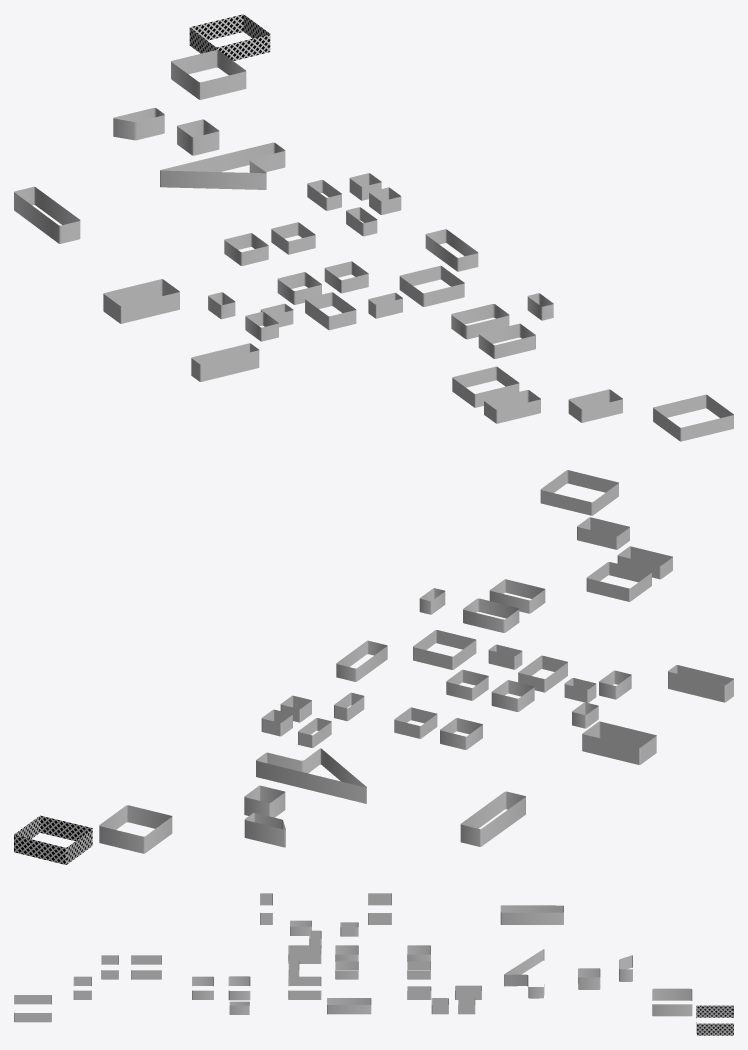
The model's file is barrier_houses.fbx.
The picture shows the model from 3 angles, top to bottom: view 1: azimuth 30°, elevation 25°; view 2: azimuth 150°, elevation 25°; view 3: azimuth 270°, elevation 25°; orthographic projection. The views are drawn at different scales.
Parts seen in each view (by area): view 1: boncafe_npr.001, pollo_campero_npr.001, san_isidro_npr.002, ineb_npr.001, intercesion_npr.001, farmacia_higia_npr.001, barrier_houses_cabuz, el_rastro_npr.001, la_trinidad_npr.001, mangos_npr.002, estadio_npr.001, bomberos_houses.002 (+10 smaller); view 2: boncafe_npr.001, barrier_houses_cabuz, pollo_campero_npr.001, ineb_npr.001, intercesion_npr.001, farmacia_higia_npr.001, san_isidro_npr.002, el_rastro_npr.001, la_trinidad_npr.001, mangos_npr.002, bomberos_houses.002, estadio_npr.001 (+10 smaller); view 3: el_rastro_npr.001, intercesion_npr.001, barrier_houses_cabuz, boncafe_npr.001, farmacia_higia_npr.001, san_isidro_npr.002, bomberos_houses.002, la_municipalidad_npr.001, santa_lucia_npr.001, la_trinidad_npr.001, mangos_npr.002, pollo_campero_npr.001 (+10 smaller).
Boxes of the visible parts, x1=… form: boncafe_npr.001: x1=160, y1=142, x2=285, y2=189; pollo_campero_npr.001: x1=484, y1=389, x2=622, y2=423; san_isidro_npr.002: x1=113, y1=108, x2=219, y2=155; ineb_npr.001: x1=103, y1=279, x2=179, y2=323; intercesion_npr.001: x1=171, y1=50, x2=246, y2=99; farmacia_higia_npr.001: x1=368, y1=265, x2=464, y2=318; barrier_houses_cabuz: x1=189, y1=14, x2=270, y2=60; el_rastro_npr.001: x1=14, y1=186, x2=80, y2=243; la_trinidad_npr.001: x1=653, y1=394, x2=733, y2=441; mangos_npr.002: x1=451, y1=293, x2=553, y2=339; estadio_npr.001: x1=191, y1=343, x2=259, y2=381; bomberos_houses.002: x1=260, y1=292, x2=356, y2=330; boncafe_npr.001: x1=256, y1=748, x2=366, y2=803; barrier_houses_cabuz: x1=14, y1=815, x2=92, y2=864; pollo_campero_npr.001: x1=577, y1=517, x2=672, y2=579; ineb_npr.001: x1=582, y1=721, x2=656, y2=764; intercesion_npr.001: x1=99, y1=805, x2=172, y2=853; farmacia_higia_npr.001: x1=413, y1=630, x2=522, y2=669; san_isidro_npr.002: x1=244, y1=785, x2=285, y2=847; el_rastro_npr.001: x1=460, y1=791, x2=525, y2=846; la_trinidad_npr.001: x1=540, y1=470, x2=618, y2=515; mangos_npr.002: x1=419, y1=588, x2=519, y2=632; bomberos_houses.002: x1=518, y1=655, x2=596, y2=702; estadio_npr.001: x1=668, y1=665, x2=733, y2=702; el_rastro_npr.001: x1=500, y1=905, x2=563, y2=924; intercesion_npr.001: x1=652, y1=988, x2=692, y2=1016; barrier_houses_cabuz: x1=696, y1=1005, x2=733, y2=1035; boncafe_npr.001: x1=504, y1=949, x2=544, y2=998; farmacia_higia_npr.001: x1=288, y1=961, x2=321, y2=999; san_isidro_npr.002: x1=578, y1=955, x2=632, y2=989; bomberos_houses.002: x1=288, y1=930, x2=321, y2=963; la_municipalidad_npr.001: x1=407, y1=961, x2=431, y2=999; santa_lucia_npr.001: x1=327, y1=998, x2=371, y2=1014; la_trinidad_npr.001: x1=14, y1=995, x2=51, y2=1022; mangos_npr.002: x1=228, y1=976, x2=250, y2=1014; pollo_campero_npr.001: x1=73, y1=955, x2=118, y2=999.
Bounding box in the file's own units: 12670 × 579 × 29655.
